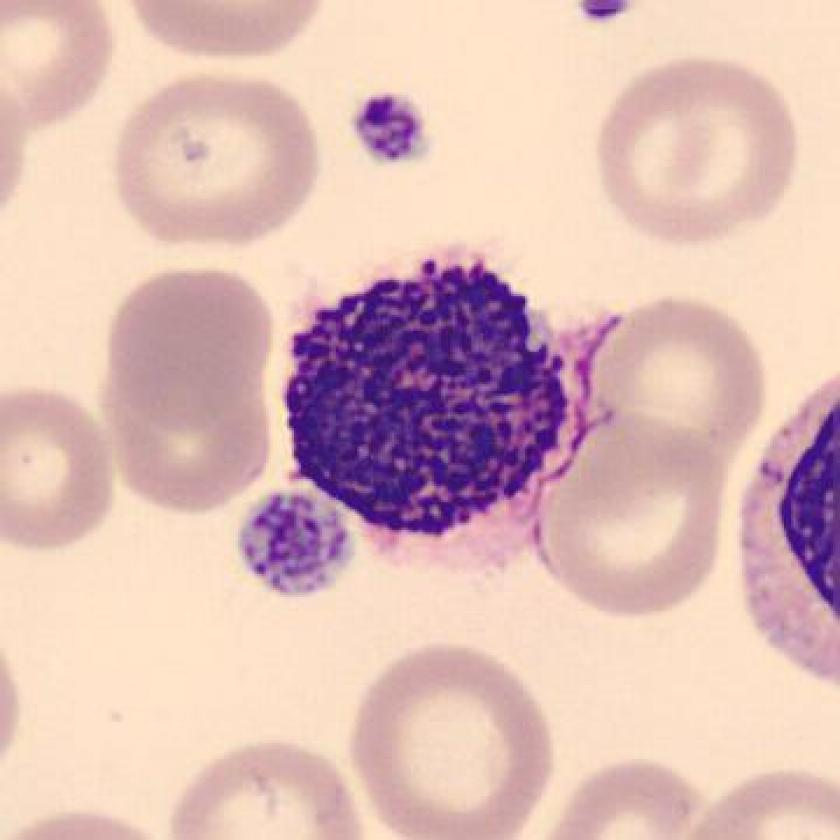basophil: (286, 253, 568, 552)
